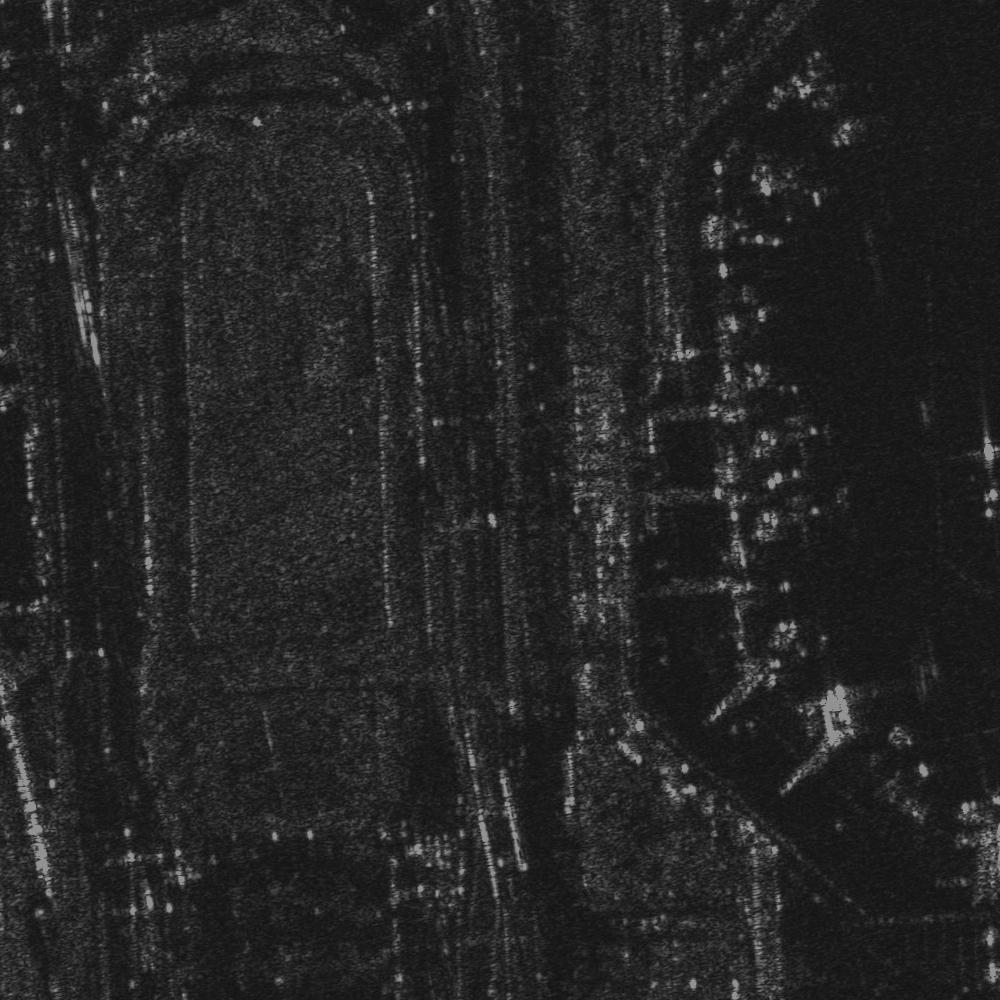A220: (741, 146, 850, 229), (756, 474, 855, 547), (743, 403, 838, 469)
